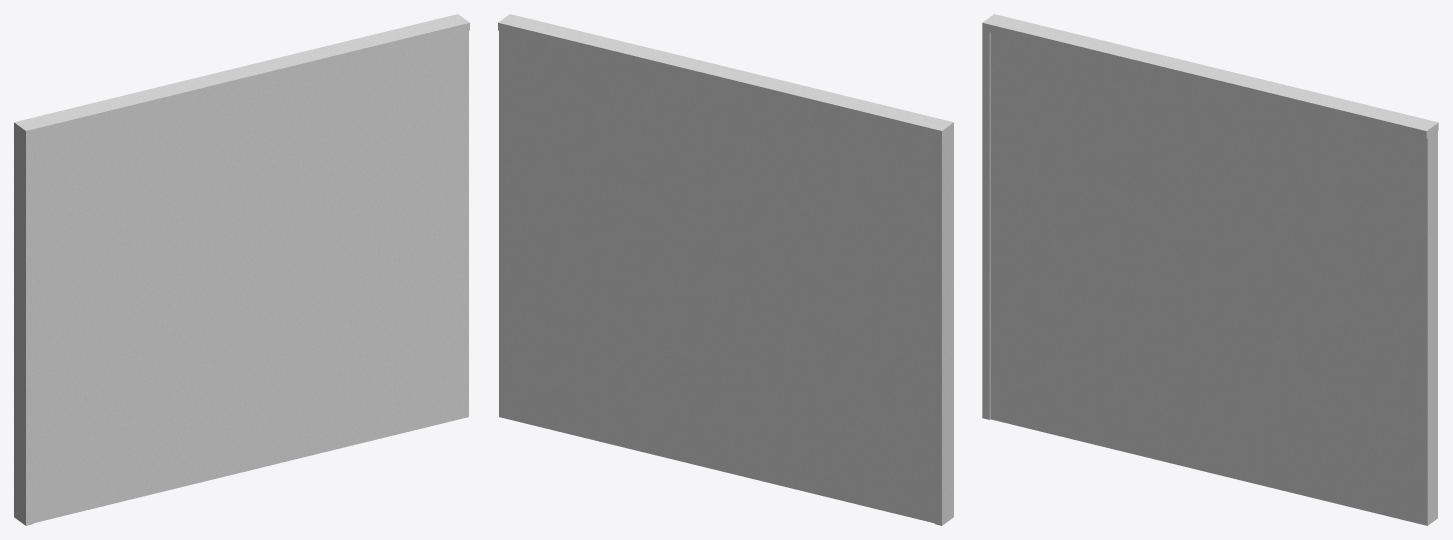
File: PoolFenceConcrete01_1.FBX
3 renders of one model, left to right at view 1: azimuth 30°, elevation 25°; view 2: azimuth 150°, elevation 25°; view 3: azimuth 330°, elevation 25°, orthographic.
Visible parts, largest first — view 1: PoolFenceConcrete01_1; view 2: PoolFenceConcrete01_1; view 3: PoolFenceConcrete01_1.
Part boxes in pixels (<box>): PoolFenceConcrete01_1: <box>14,14,469,525</box>; PoolFenceConcrete01_1: <box>498,14,953,525</box>; PoolFenceConcrete01_1: <box>982,14,1438,525</box>.
Size of what is drawn, in the model's own units: 3 by 2.55 by 0.14.
